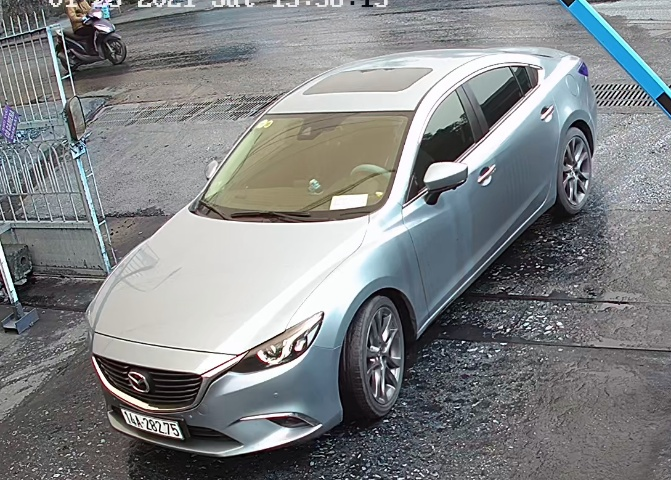vehicle plate: (108, 403, 192, 442)
